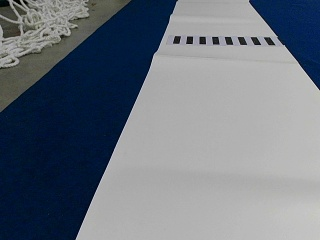crosswalk: (169, 34, 275, 47)
